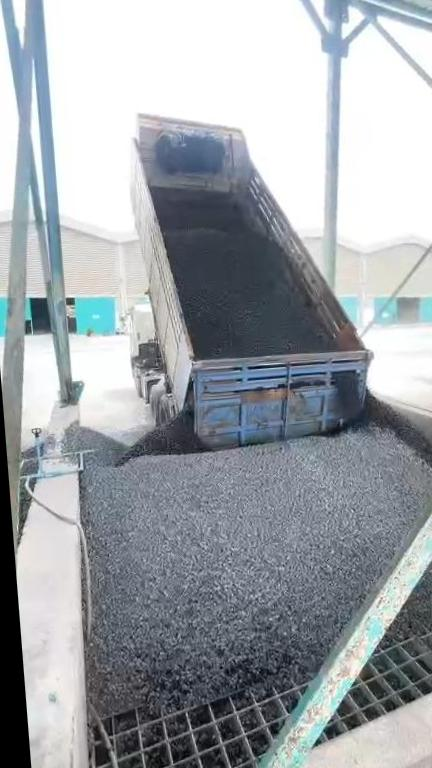gravel: (61, 399, 432, 712), (157, 197, 330, 358), (400, 483, 432, 635), (17, 477, 33, 551)
sand: (420, 367, 432, 428)
